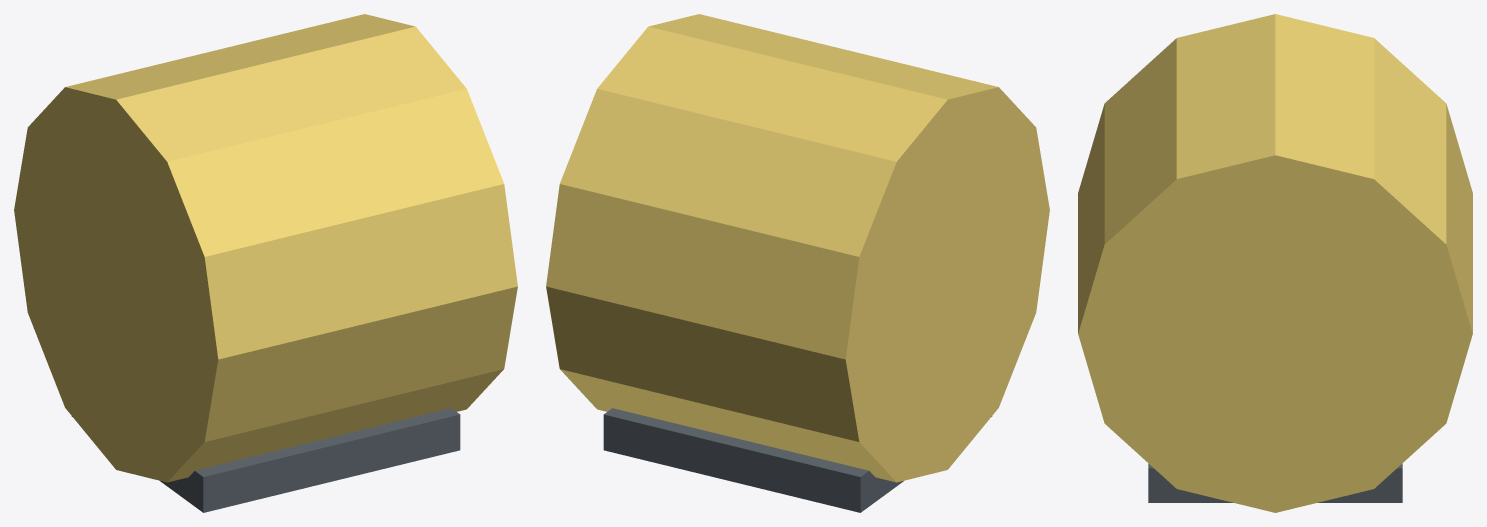
The model's file is blower_lod0.glb.
3 views of the same model, side by side, from view 1: azimuth 30°, elevation 25°; view 2: azimuth 150°, elevation 25°; view 3: azimuth 270°, elevation 25° (orthographic). The views are drawn at different scales.
Visible parts, largest first — view 1: part_0, part_1; view 2: part_0, part_1; view 3: part_0, part_1.
Boxes of the visible parts, x1,y1,x2,y2 form: part_0: [14, 14, 517, 482]; part_1: [71, 408, 460, 512]; part_0: [546, 14, 1049, 482]; part_1: [603, 408, 992, 512]; part_0: [1078, 14, 1472, 512]; part_1: [1148, 463, 1402, 502].
Bounding box in the file's own units: 1.05 × 1.24 × 1.24.
